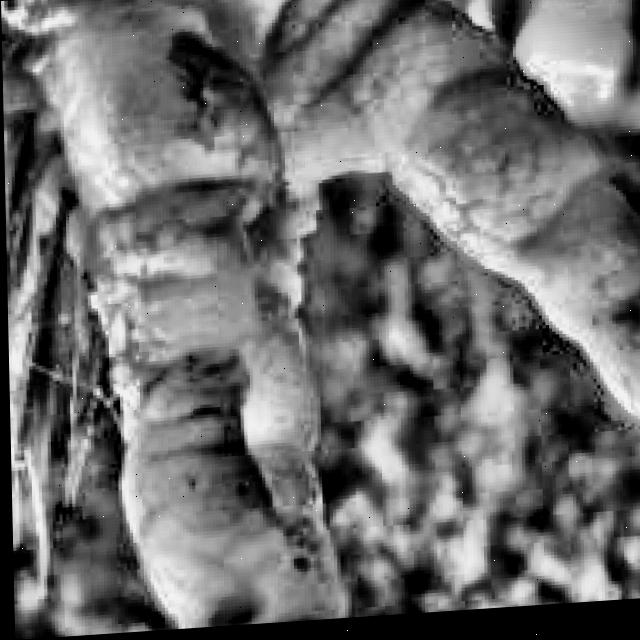Bumble foot: (0, 0, 361, 640)
